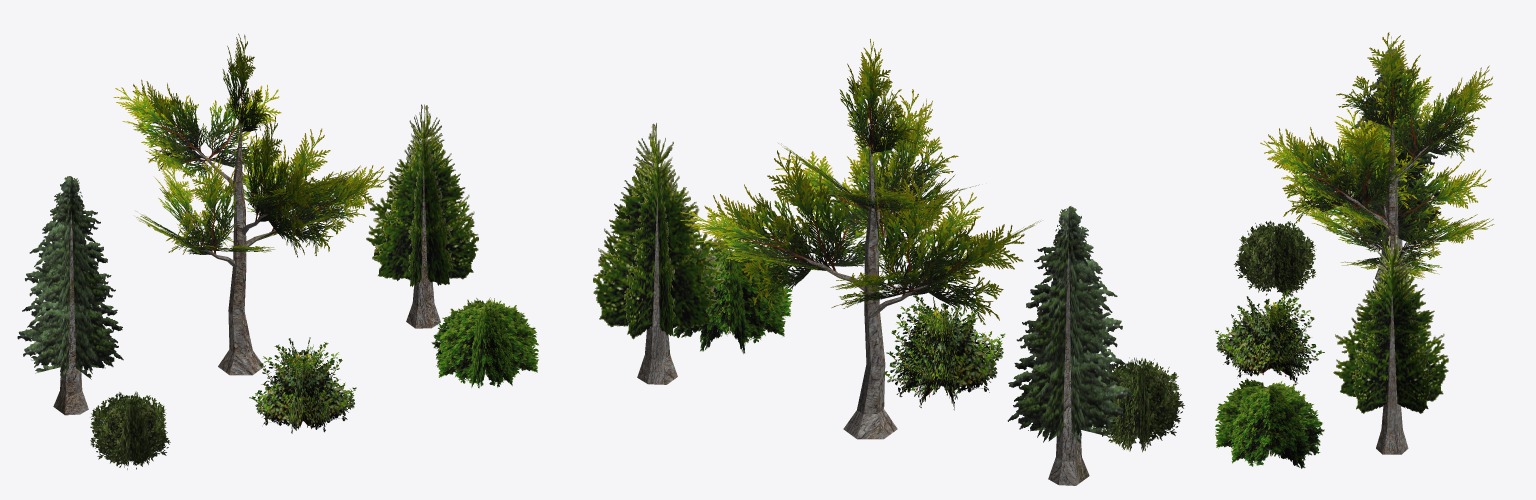
File: ps 1 tree pack2.fbx
The picture shows the model from 3 angles, left to right: view 1: azimuth 30°, elevation 25°; view 2: azimuth 150°, elevation 25°; view 3: azimuth 270°, elevation 25°; orthographic projection. The views are drawn at different scales.
Parts seen in each view (by area): view 1: Дерево 2 листья, Дерево 1 листья, Дерево 3 листья, Куст 3, Куст 2, Куст 1, Дерево 2 ствол, Дерево 1 ствол, Дерево 3 ствол; view 2: Дерево 2 листья, Дерево 1 листья, Дерево 3 листья, Куст 2, Куст 3, Дерево 2 ствол, Куст 1, Дерево 1 ствол, Дерево 3 ствол; view 3: Дерево 2 листья, Дерево 3 листья, Куст 3, Куст 2, Куст 1, Дерево 1 листья, Дерево 3 ствол, Дерево 2 ствол.
Part boxes in pixels (x1,y1,x2,y2): Дерево 2 листья: (113, 33, 387, 257); Дерево 1 листья: (17, 176, 123, 379); Дерево 3 листья: (366, 104, 478, 286); Куст 3: (431, 297, 538, 388); Куст 2: (249, 337, 356, 433); Куст 1: (90, 391, 170, 469); Дерево 2 ствол: (193, 123, 287, 375); Дерево 1 ствол: (53, 212, 88, 415); Дерево 3 ствол: (406, 167, 440, 328); Дерево 2 листья: (680, 39, 1040, 324); Дерево 1 листья: (1007, 206, 1131, 446); Дерево 3 листья: (593, 123, 724, 339); Куст 2: (885, 295, 1005, 410); Куст 3: (673, 240, 792, 353); Дерево 2 ствол: (799, 145, 927, 439); Куст 1: (1092, 357, 1184, 452); Дерево 1 ствол: (1048, 249, 1089, 485); Дерево 3 ствол: (637, 195, 677, 384); Дерево 2 листья: (1260, 32, 1494, 279); Дерево 3 листья: (1333, 234, 1448, 413); Куст 3: (1215, 378, 1324, 468); Куст 2: (1215, 289, 1324, 385); Куст 1: (1234, 220, 1316, 298); Дерево 1 листья: (1339, 48, 1445, 245); Дерево 3 ствол: (1376, 294, 1408, 454); Дерево 2 ствол: (1340, 120, 1428, 268).
Size of the model in its own units: 2333 by 1673 by 1331.
9 materials, 9 textured.
